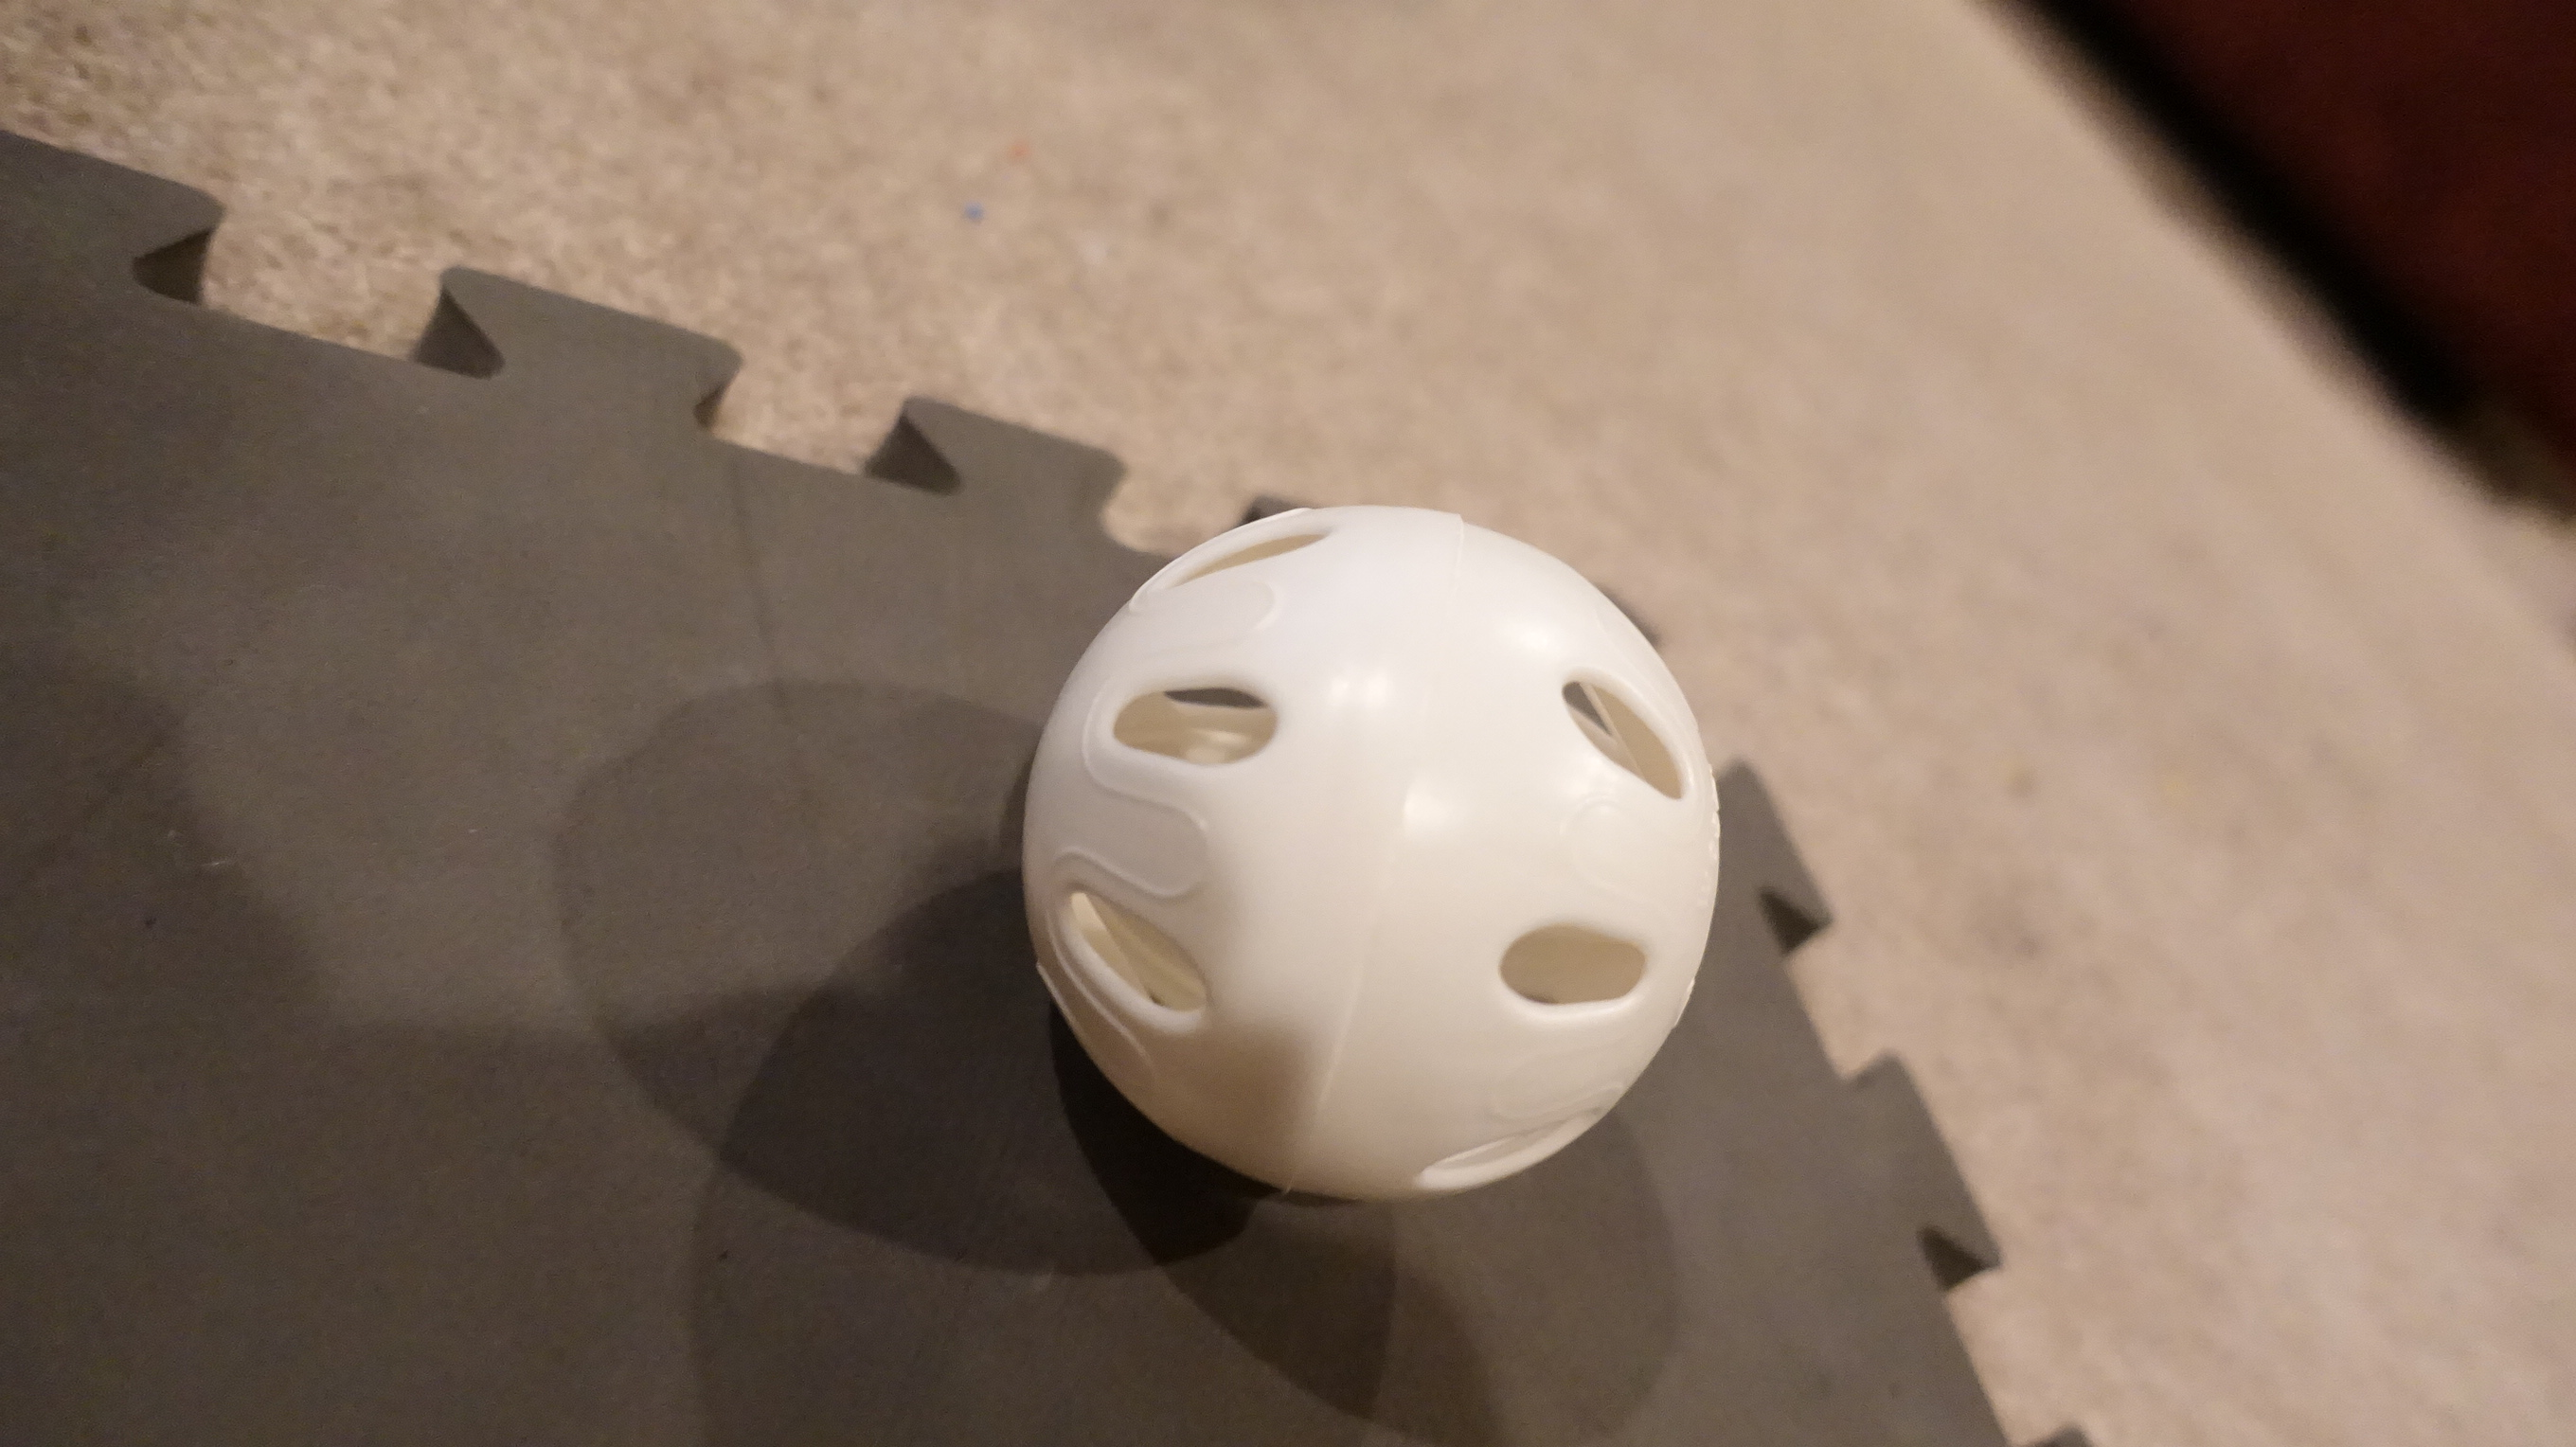silver: (1014, 456, 1732, 1221)
